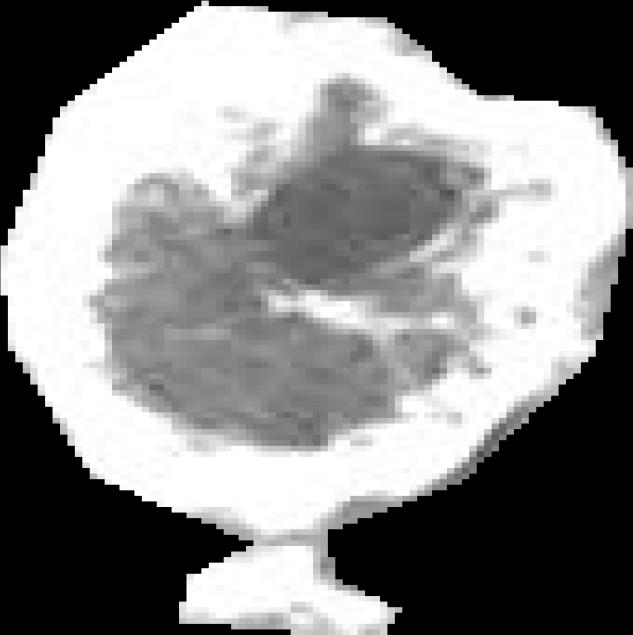tumor_moderate_chance: (0, 1, 633, 635)
